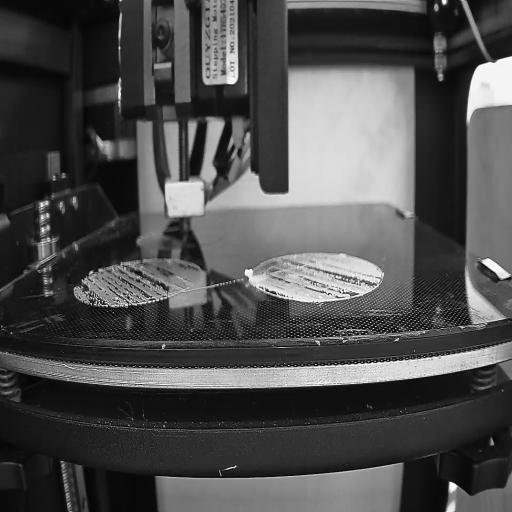under_extrusion: (258, 254, 383, 302), (75, 259, 171, 308), (177, 262, 202, 278)
